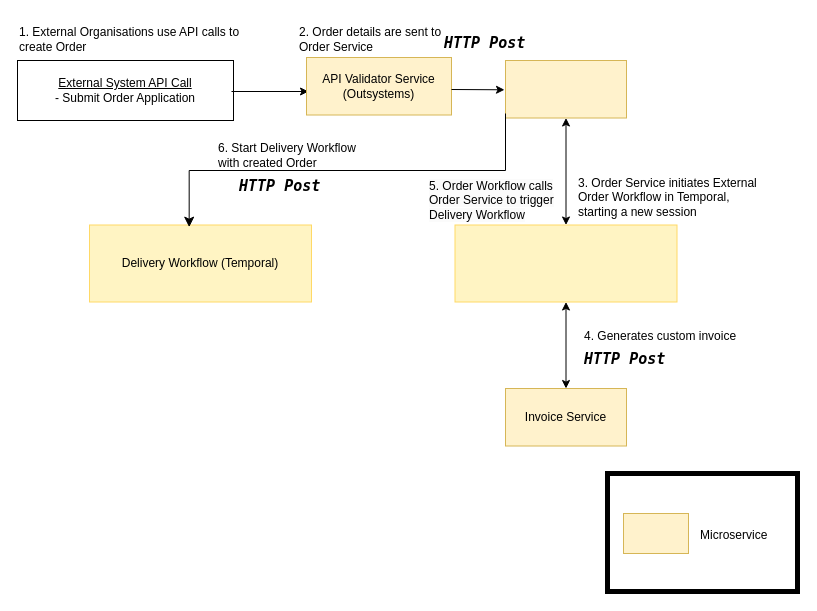
The diagram is 817 pixels wide and 611 high, and some of its shapes have lost their labels. Here are the shapes that lost their labels. From the top down, the box of each, then its label:
(504, 60, 626, 118): Order Service
(454, 224, 677, 302): External Order Workflow (Temporal)
